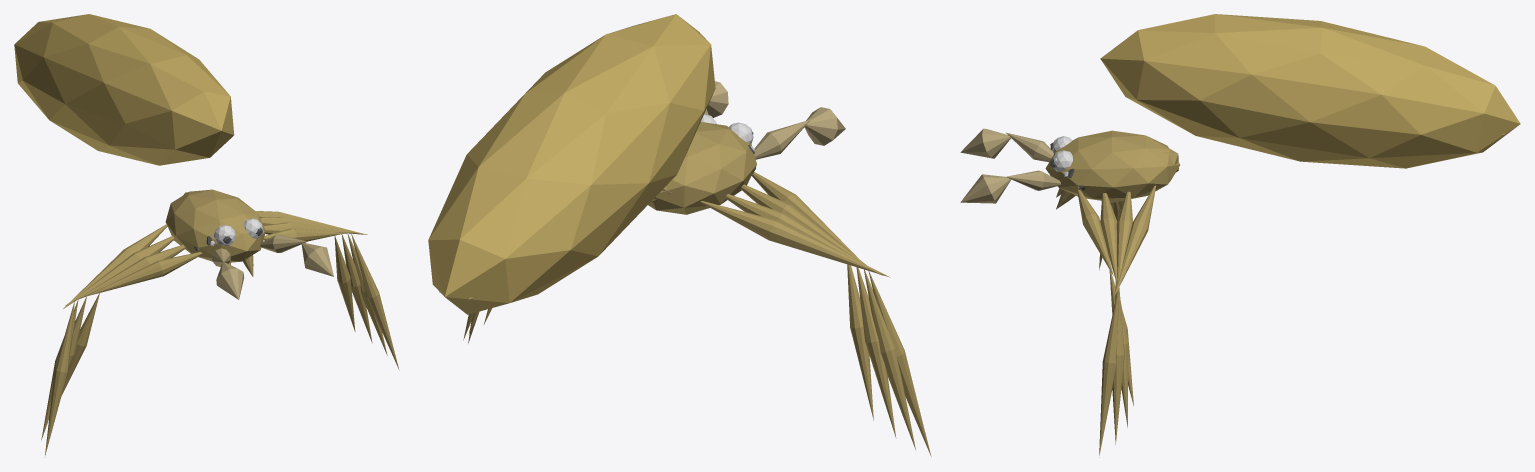
Rendered from oxyopes-macilentus.glb.
3 views of the same model, side by side, from view 1: azimuth 30°, elevation 25°; view 2: azimuth 150°, elevation 25°; view 3: azimuth 270°, elevation 25° (orthographic). The views are drawn at different scales.
Parts seen in each view (by area): view 1: abdomen, cephalothorax, leg3-r0, leg0-r0, leg3-l0, leg0-l0, leg1-l0, leg2-r0, leg1-r0, leg2-l0, palp-l1, palp-r1 (+1 smaller); view 2: abdomen, cephalothorax, leg3-r0, leg2-r0, leg1-r0, leg0-r0, palp-r1, palp-r0, palp-l1; view 3: abdomen, cephalothorax, leg3-l0, leg2-l0, leg1-l0, leg0-l0, palp-l1, palp-r1, palp-l0, palp-r0.
Boxes of the visible parts, box(x1,y1,x2,y2) form: abdomen: box(14, 14, 234, 165); cephalothorax: box(165, 189, 265, 262); leg3-r0: box(44, 224, 167, 457); leg0-r0: box(61, 252, 202, 395); leg3-l0: box(256, 211, 399, 369); leg0-l0: box(263, 228, 355, 331); leg1-l0: box(264, 222, 372, 343); leg2-r0: box(41, 236, 174, 440); leg1-r0: box(68, 245, 185, 369); leg2-l0: box(260, 217, 387, 355); palp-l1: box(301, 243, 333, 276); palp-r1: box(216, 262, 244, 299); abdomen: box(428, 14, 715, 314); cephalothorax: box(648, 122, 756, 214); leg3-r0: box(700, 201, 931, 456); leg2-r0: box(725, 194, 915, 449); leg1-r0: box(740, 184, 896, 438); leg0-r0: box(751, 172, 873, 420); palp-r1: box(804, 107, 845, 145); palp-r0: box(754, 119, 810, 159); palp-l1: box(706, 81, 728, 117); abdomen: box(1100, 14, 1520, 168); cephalothorax: box(1045, 130, 1180, 202); leg3-l0: box(1099, 185, 1155, 457); leg2-l0: box(1112, 191, 1132, 444); leg1-l0: box(1100, 193, 1128, 427); leg0-l0: box(1077, 189, 1133, 405); palp-l1: box(960, 174, 1011, 203); palp-r1: box(960, 128, 1010, 158); palp-l0: box(1006, 170, 1060, 190); palp-r0: box(1006, 132, 1053, 162).
Bounding box in the file's own units: 0.6019 × 0.5118 × 0.7627.
